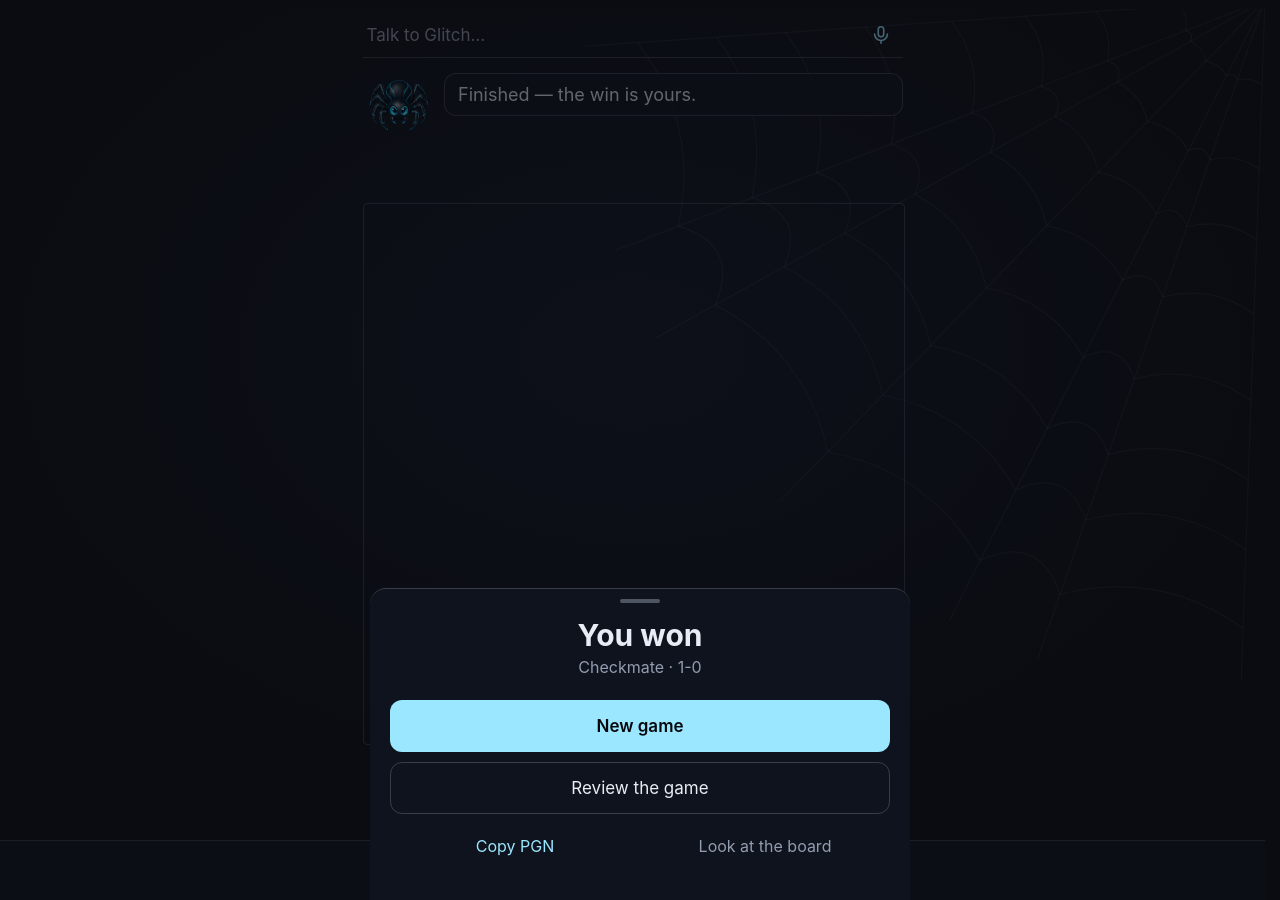
it: post-game screen › dismisses to the final board and reopens from the results chip
Expected: the dialog named "game over" is shown, [370,588,910,899]
What coordinates should you click on to do the following:
click the button "Look at the board"
I would click on:
 (765, 846)
Its box is [640,822,890,870].
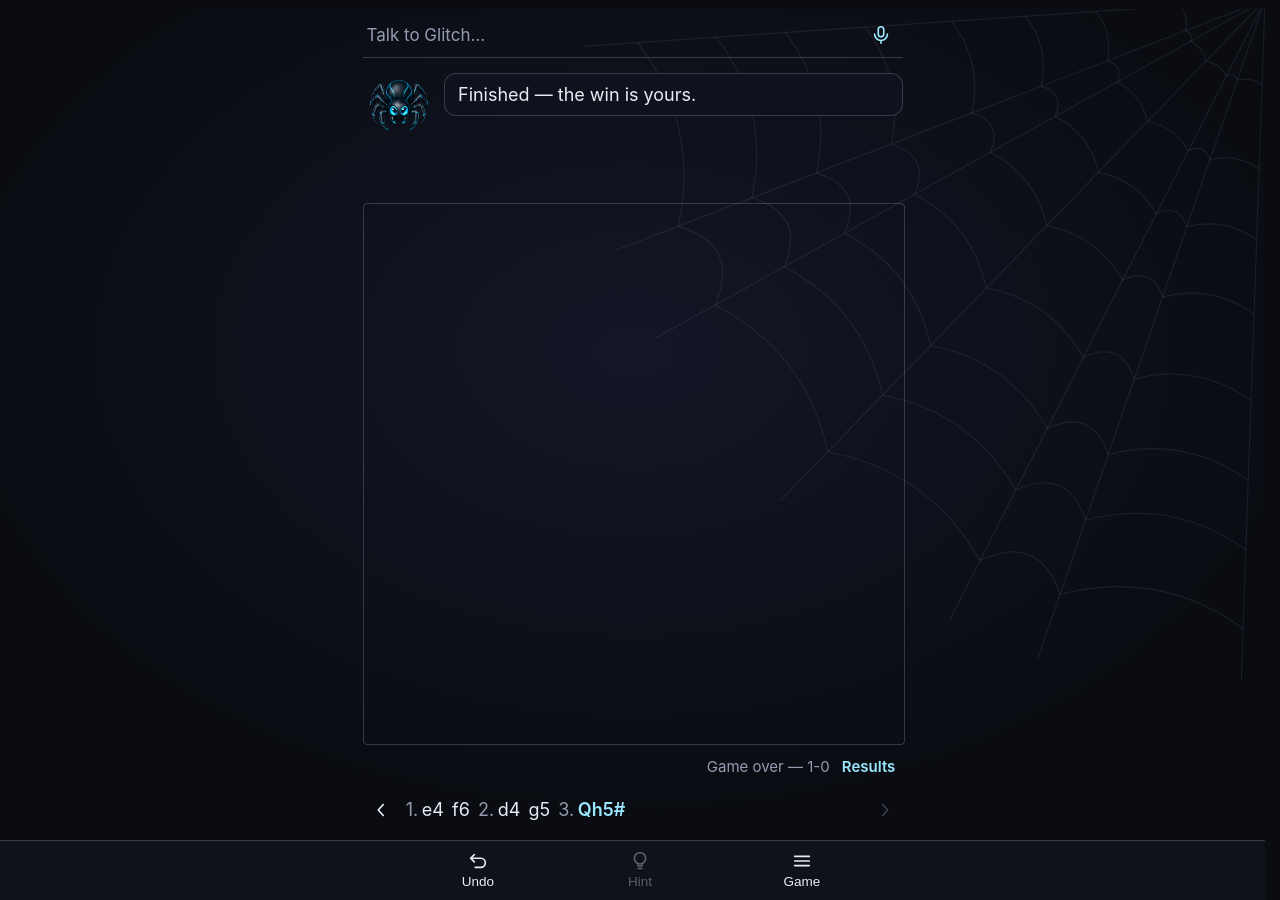
What coordinates should you click on to do the following:
click the button "Results"
I would click on:
 (869, 767)
Its box is [835,753,902,781].
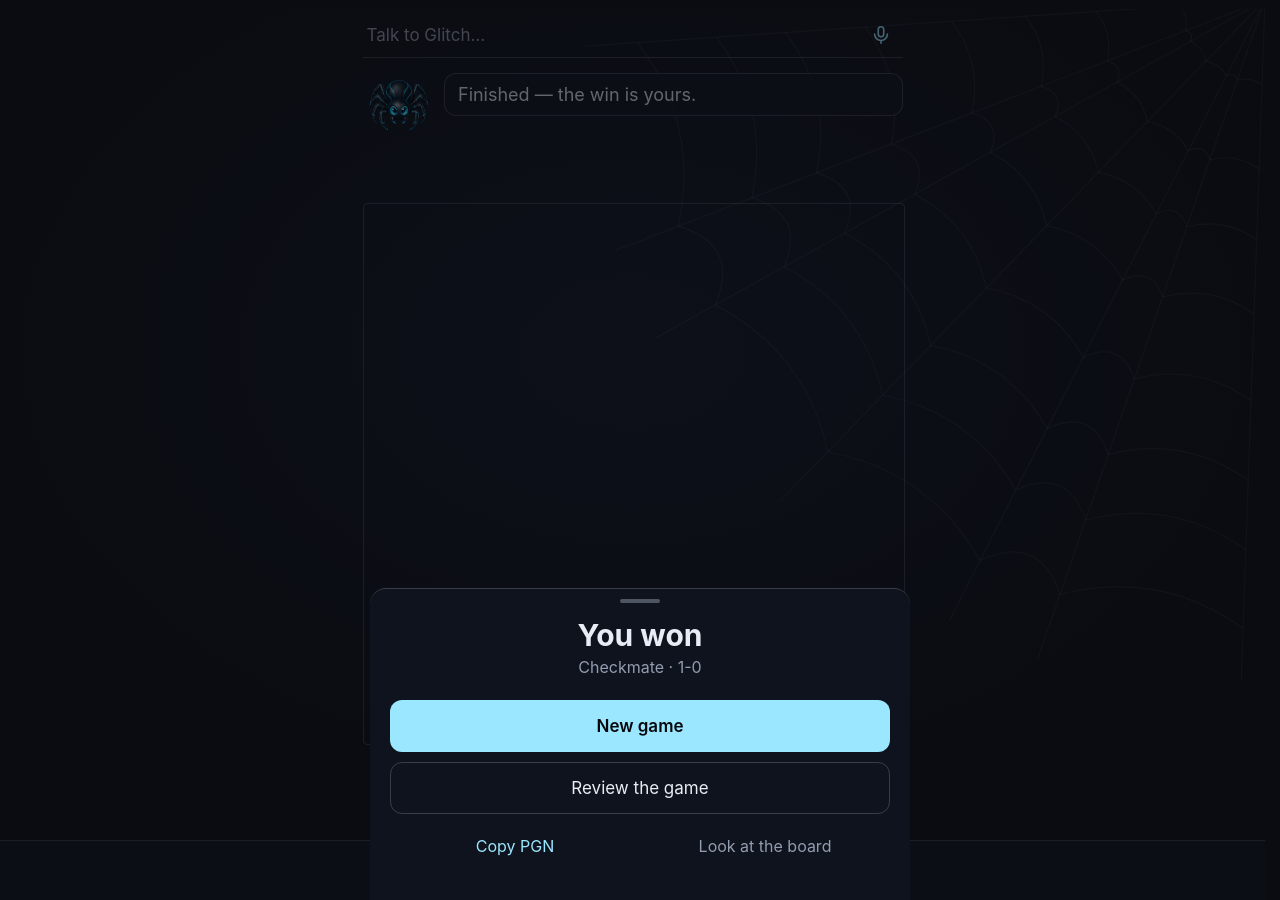
Now the dialog named "game over" is shown, box [370,588,910,899]
